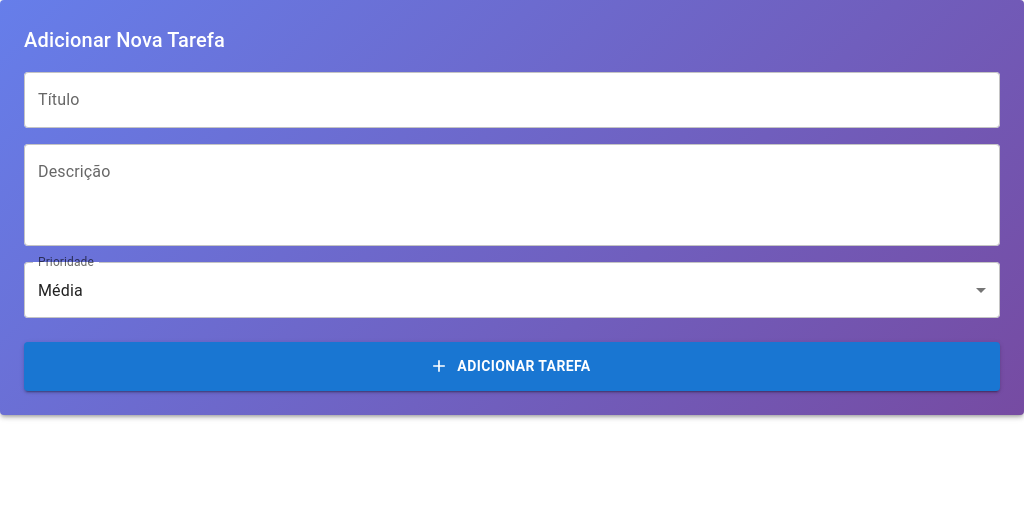
Scenario: FormularioTarefa › Validação › deve mostrar erro quando ambos os campos estão vazios
What coordinates should you click on to do the following:
click the button with test id "botao-adicionar"
I would click on:
 (512, 366)
Its box is [24,342,1000,390].
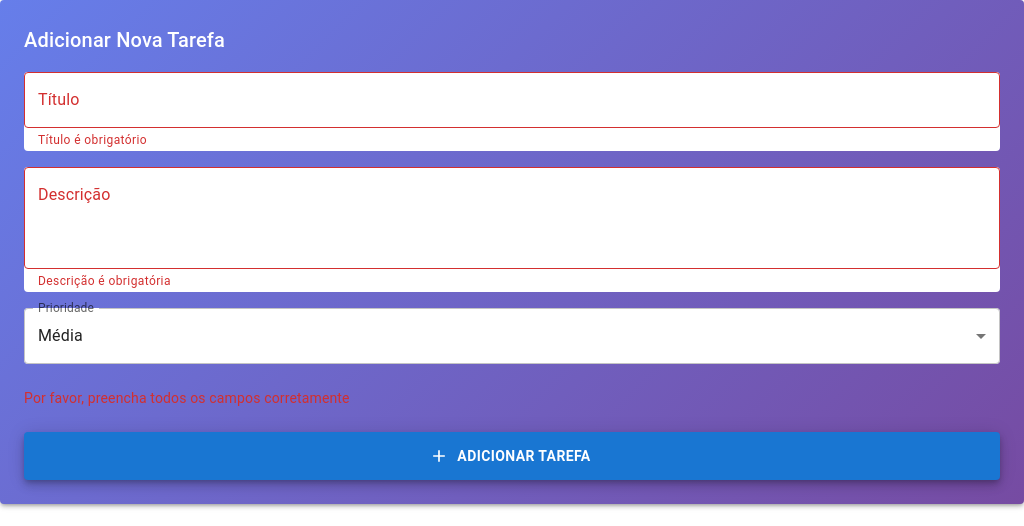
Check: the text "Por favor, preencha todos os campos corretamente" is shown, box [24,390,350,406]
